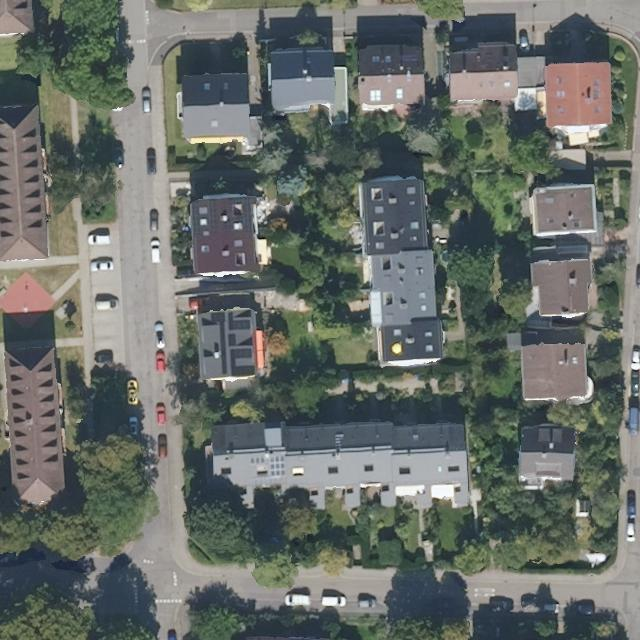PV: (210, 311, 228, 374), (248, 453, 286, 478), (229, 347, 256, 377), (227, 309, 252, 331), (227, 332, 238, 349)
